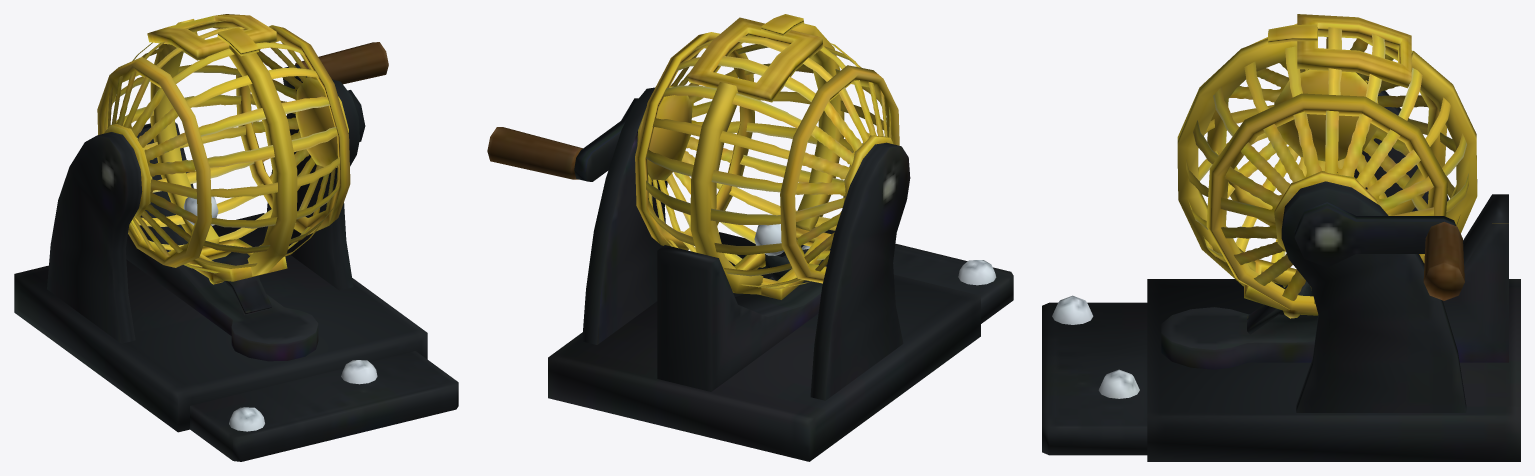
The picture shows the model from 3 angles, left to right: view 1: azimuth 30°, elevation 25°; view 2: azimuth 150°, elevation 25°; view 3: azimuth 270°, elevation 25°; orthographic projection. The views are drawn at different scales.
Size of the model in its own units: 6.05 by 5.5 by 6.58.
1 material, 1 textured.
